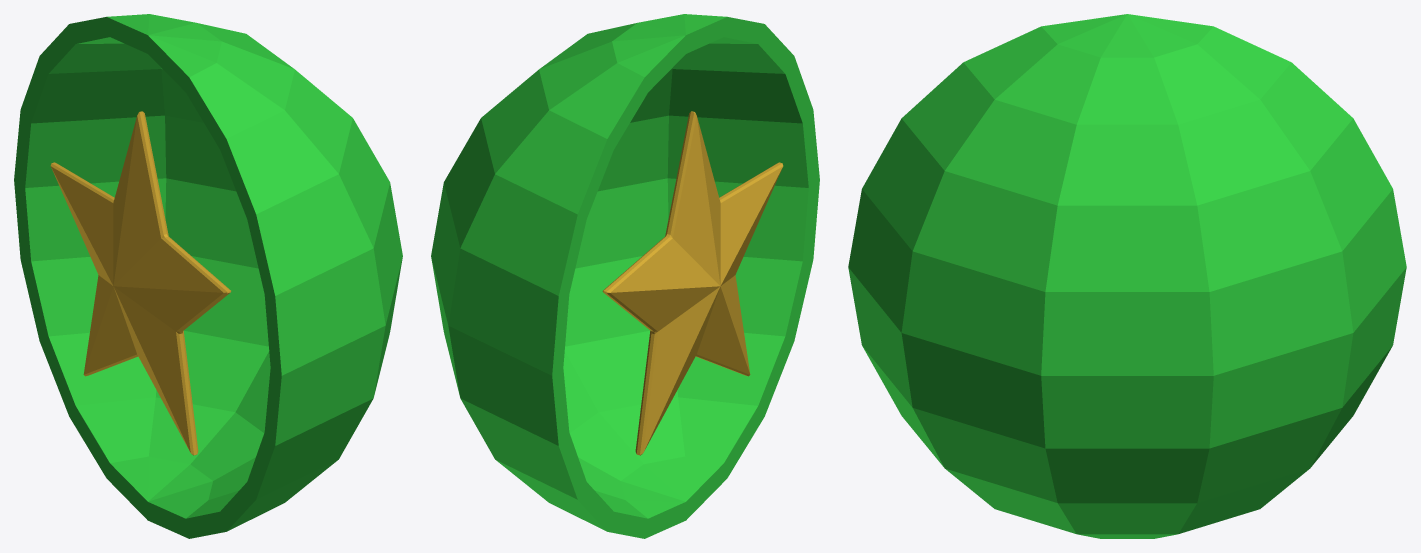
The model's file is StarPoint.fbx.
3 renders of one model, left to right at view 1: azimuth 30°, elevation 25°; view 2: azimuth 150°, elevation 25°; view 3: azimuth 270°, elevation 25°, orthographic. The views are drawn at different scales.
Parts seen in each view (by area): view 1: Star; view 2: Star; view 3: Star.
Boxes of the visible parts, left/top/right/bottom form: Star: left=14, top=14, right=402, bottom=538; Star: left=431, top=14, right=819, bottom=538; Star: left=848, top=14, right=1406, bottom=538.
Bounding box in the file's own units: 107 × 200 × 200.
1 material, 1 textured.
